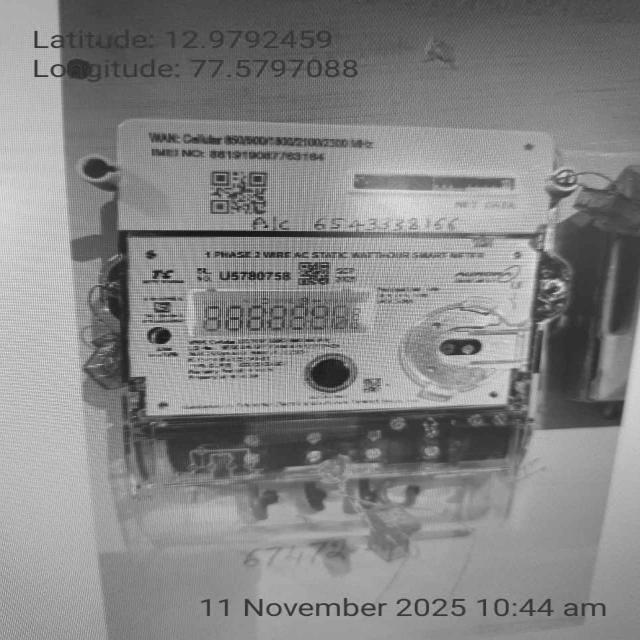meter: (113, 115, 558, 411)
